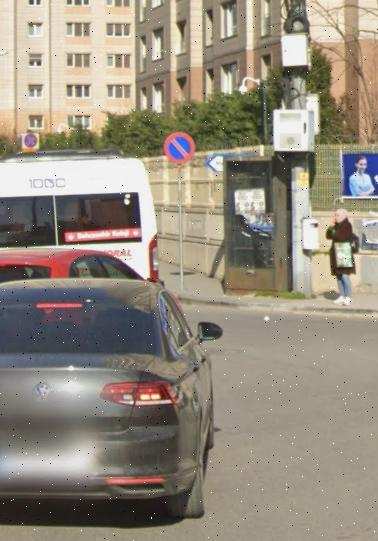nopark: (164, 131, 195, 163)
